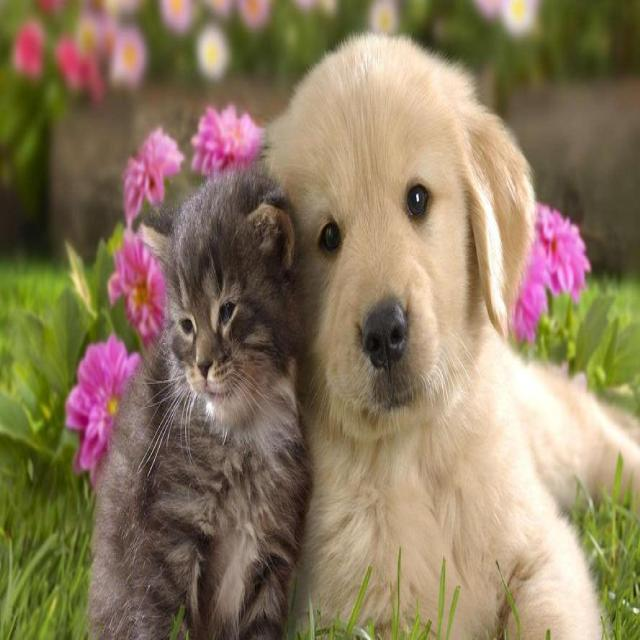cat: (143, 149, 314, 446)
dog: (264, 21, 544, 472)
